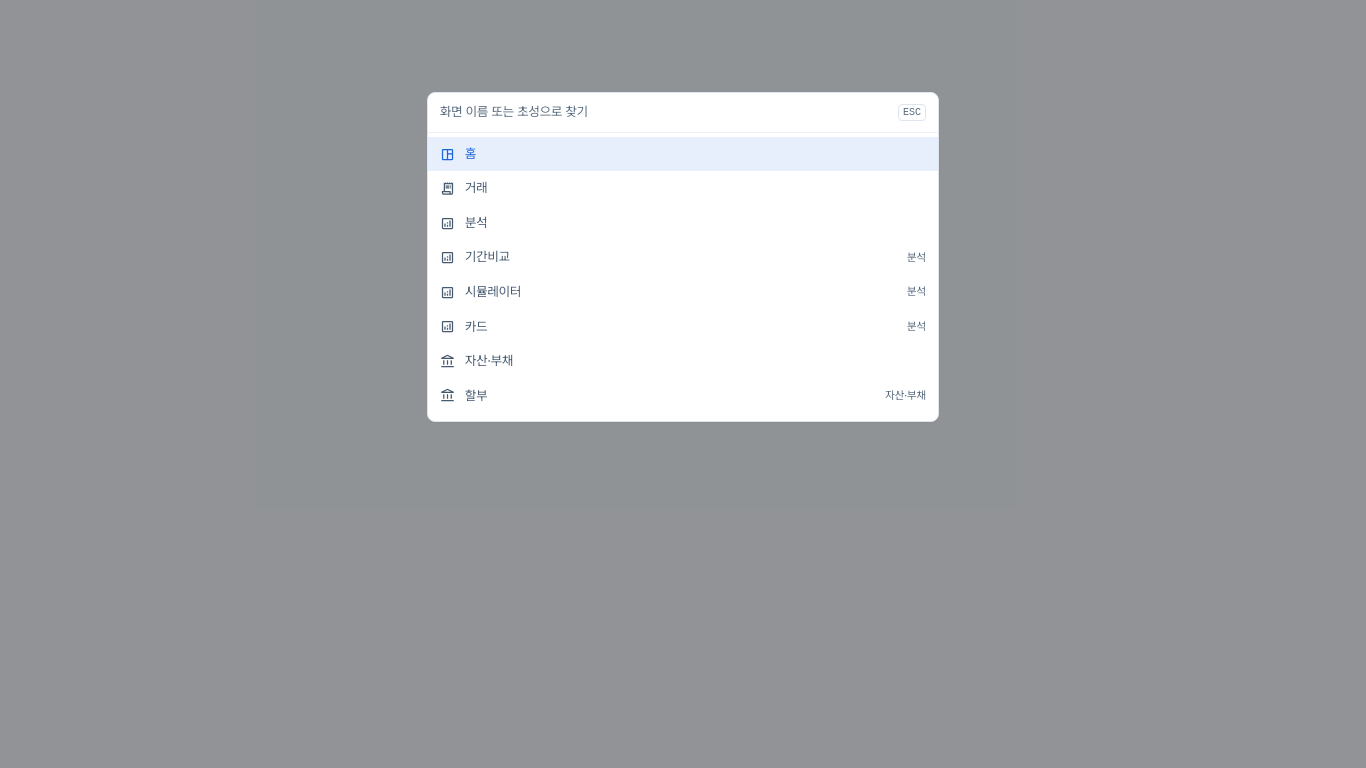
Test: 검색 › 맞는 것이 없으면 그렇게 말한다
In the field named "화면 검색": (665, 112) [440,103,890,122], type "없는화면이름"
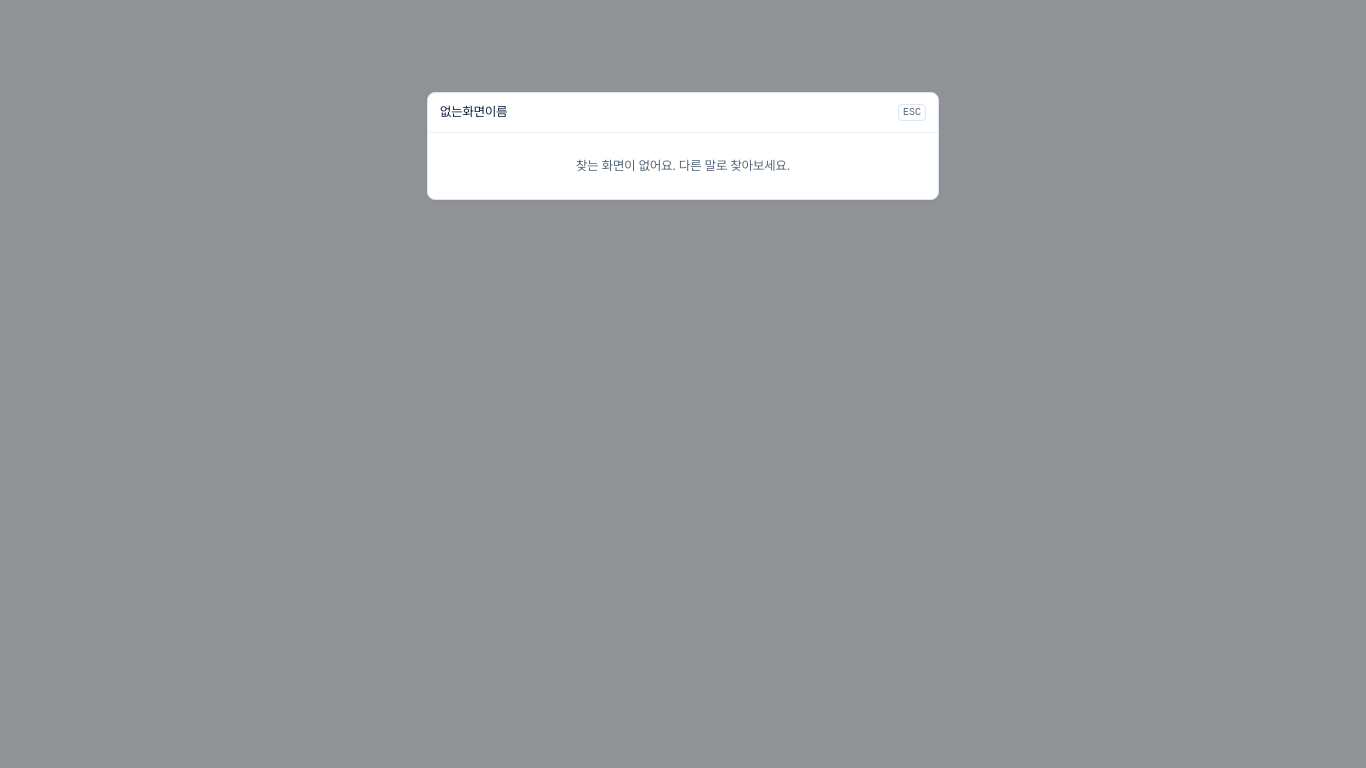
Result: the text "찾는 화면이 없어요. 다른 말로 찾아보세요." is shown at [576,158,790,173]
